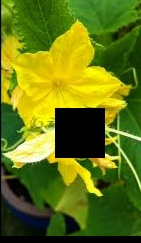cucumber_plant: (3, 17, 131, 223)
